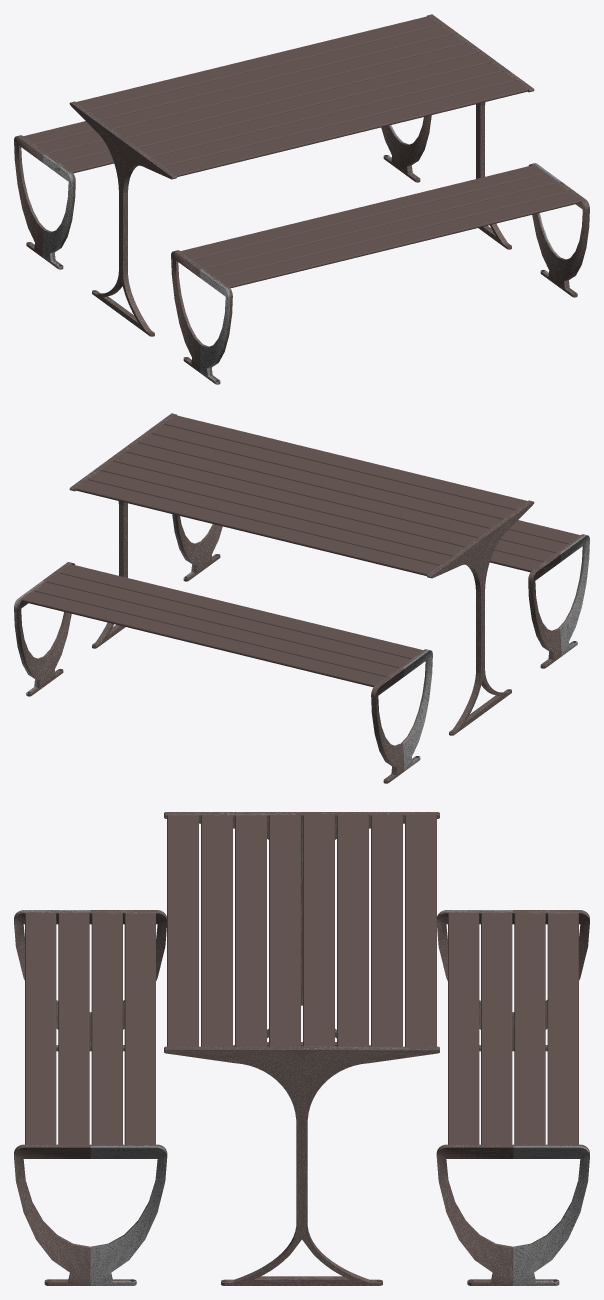
The picture shows the model from 3 angles, top to bottom: view 1: azimuth 30°, elevation 25°; view 2: azimuth 150°, elevation 25°; view 3: azimuth 270°, elevation 25°; orthographic projection. The views are drawn at different scales.
Parts seen in each view (by area): view 1: mesh7_mesh7-geometry, mesh1_mesh1-geometry, mesh4_mesh4-geometry, mesh5_mesh5-geometry, mesh9_mesh9-geometry, mesh6_mesh6-geometry, mesh10_mesh10-geometry, mesh12_mesh12-geometry, mesh11_mesh11-geometry, mesh3_mesh3-geometry; view 2: mesh1_mesh1-geometry, mesh7_mesh7-geometry, mesh5_mesh5-geometry, mesh4_mesh4-geometry, mesh6_mesh6-geometry, mesh9_mesh9-geometry, mesh12_mesh12-geometry, mesh10_mesh10-geometry, mesh3_mesh3-geometry, mesh11_mesh11-geometry; view 3: mesh1_mesh1-geometry, mesh7_mesh7-geometry, mesh4_mesh4-geometry, mesh5_mesh5-geometry, mesh10_mesh10-geometry, mesh12_mesh12-geometry, mesh6_mesh6-geometry, mesh9_mesh9-geometry, mesh3_mesh3-geometry, mesh11_mesh11-geometry.
Part boxes in pixels (bbox=[...]): mesh7_mesh7-geometry: bbox=[23, 53, 580, 268]; mesh1_mesh1-geometry: bbox=[48, 16, 556, 288]; mesh4_mesh4-geometry: bbox=[14, 115, 589, 372]; mesh5_mesh5-geometry: bbox=[42, 125, 560, 384]; mesh9_mesh9-geometry: bbox=[19, 116, 587, 361]; mesh6_mesh6-geometry: bbox=[45, 125, 558, 384]; mesh10_mesh10-geometry: bbox=[121, 14, 482, 336]; mesh12_mesh12-geometry: bbox=[69, 51, 534, 314]; mesh11_mesh11-geometry: bbox=[73, 52, 531, 309]; mesh3_mesh3-geometry: bbox=[123, 15, 479, 336]; mesh1_mesh1-geometry: bbox=[23, 452, 580, 667]; mesh7_mesh7-geometry: bbox=[47, 415, 555, 687]; mesh5_mesh5-geometry: bbox=[14, 514, 589, 771]; mesh4_mesh4-geometry: bbox=[43, 524, 561, 783]; mesh6_mesh6-geometry: bbox=[16, 515, 584, 760]; mesh9_mesh9-geometry: bbox=[45, 524, 558, 783]; mesh12_mesh12-geometry: bbox=[121, 413, 482, 735]; mesh10_mesh10-geometry: bbox=[69, 450, 534, 713]; mesh3_mesh3-geometry: bbox=[72, 451, 530, 708]; mesh11_mesh11-geometry: bbox=[124, 414, 480, 735]; mesh1_mesh1-geometry: bbox=[25, 815, 578, 1144]; mesh7_mesh7-geometry: bbox=[25, 815, 578, 1144]; mesh4_mesh4-geometry: bbox=[14, 910, 589, 1285]; mesh5_mesh5-geometry: bbox=[14, 910, 589, 1285]; mesh10_mesh10-geometry: bbox=[164, 812, 439, 1285]; mesh12_mesh12-geometry: bbox=[164, 812, 439, 1285]; mesh6_mesh6-geometry: bbox=[14, 911, 589, 1280]; mesh9_mesh9-geometry: bbox=[14, 911, 589, 1280]; mesh3_mesh3-geometry: bbox=[164, 813, 439, 1281]; mesh11_mesh11-geometry: bbox=[164, 813, 439, 1281].
Size of the model in its own units: 0.6648 by 0.3078 by 0.6806.
